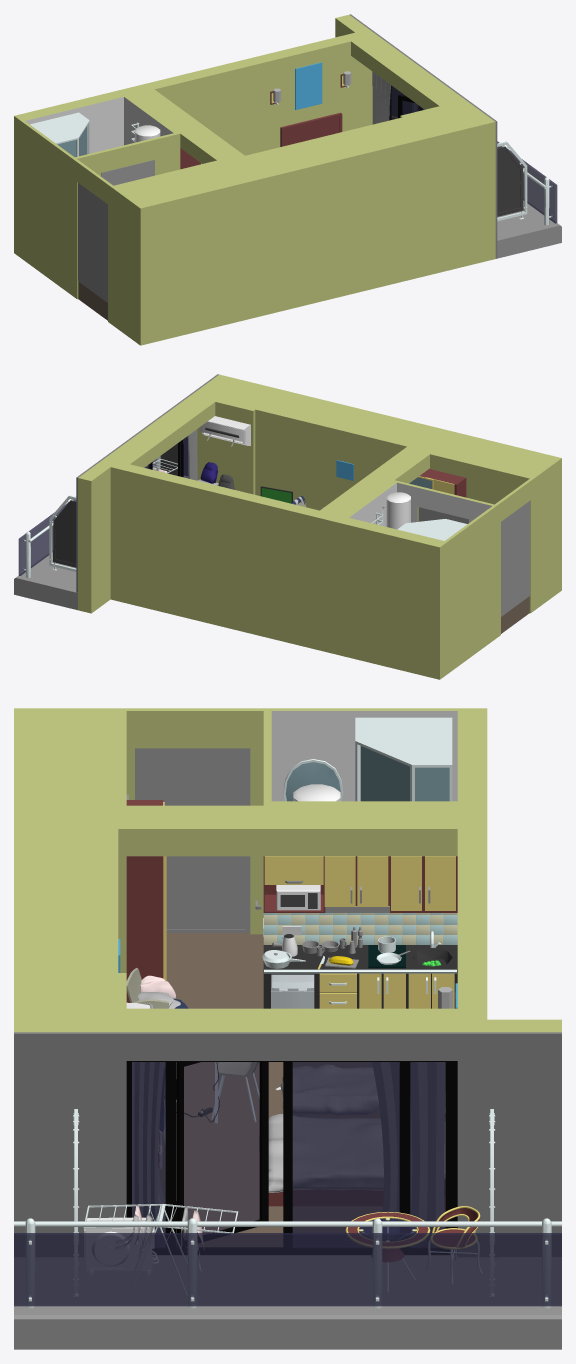
File: hotel_room.glb
3 views of the same model, one above another, from view 1: azimuth 30°, elevation 25°; view 2: azimuth 150°, elevation 25°; view 3: azimuth 270°, elevation 25° (orthographic). The views are drawn at different scales.
Visible parts, largest first — view 1: wall_1, wall_2, wall4, wall_3, wall_column_1, Cube (194), wall_column, Cube (86), Cube (123), Partition (81), Cube (122), Cube (88) (+7 smaller); view 2: wall_2, wall_1, wall4, wall_column_1, Cube (194), wall_3, wall_column, Cube (86), Partition (24), Cube (85), Cube (97), Cube (123) (+10 smaller); view 3: Mesh (2), Cube (86), Cube (85), wall_1, Cube (131), floor, wall_column, wall4, Cube (194), Cube (30), wall_2, Mesh (4) (+35 smaller).
Boxes of the visible parts, left/top/right/bottom form: wall_1: left=114, top=100, right=495, bottom=344; wall_2: left=17, top=15, right=376, bottom=164; wall4: left=14, top=115, right=143, bottom=345; wall_3: left=75, top=95, right=180, bottom=176; wall_column_1: left=351, top=35, right=464, bottom=109; Cube (194): left=78, top=183, right=107, bottom=302; wall_column: left=129, top=89, right=242, bottom=163; Cube (86): left=497, top=199, right=561, bottom=258; Cube (123): left=30, top=112, right=89, bottom=157; Partition (81): left=497, top=146, right=523, bottom=216; Cube (122): left=280, top=112, right=342, bottom=146; Cube (88): left=295, top=62, right=322, bottom=109; wall_2: left=78, top=458, right=444, bottom=678; wall_1: left=190, top=374, right=558, bottom=510; wall4: left=437, top=457, right=561, bottom=679; wall_column_1: left=105, top=396, right=215, bottom=467; Cube (194): left=501, top=501, right=530, bottom=616; wall_3: left=345, top=480, right=494, bottom=526; wall_column: left=320, top=448, right=429, bottom=516; Cube (86): left=14, top=551, right=77, bottom=610; Partition (24): left=53, top=500, right=76, bottom=567; Cube (85): left=18, top=459, right=156, bottom=575; Cube (97): left=409, top=469, right=466, bottom=497; Cube (123): left=397, top=519, right=467, bottom=540; Mesh (2): left=14, top=1032, right=561, bottom=1256; Cube (86): left=14, top=1256, right=561, bottom=1349; Cube (85): left=14, top=1233, right=561, bottom=1306; wall_1: left=14, top=711, right=126, bottom=1032; Cube (131): left=292, top=1062, right=445, bottom=1247; floor: left=157, top=933, right=449, bottom=1255; wall_column: left=126, top=805, right=457, bottom=856; wall4: left=14, top=708, right=487, bottom=934; Cube (194): left=135, top=748, right=250, bottom=932; Cube (30): left=184, top=1062, right=259, bottom=1232; wall_2: left=457, top=711, right=561, bottom=1032; Mesh (4): left=126, top=1061, right=457, bottom=1254.
Bounding box in the file's own units: 12.21 × 3.8 × 7.35.
